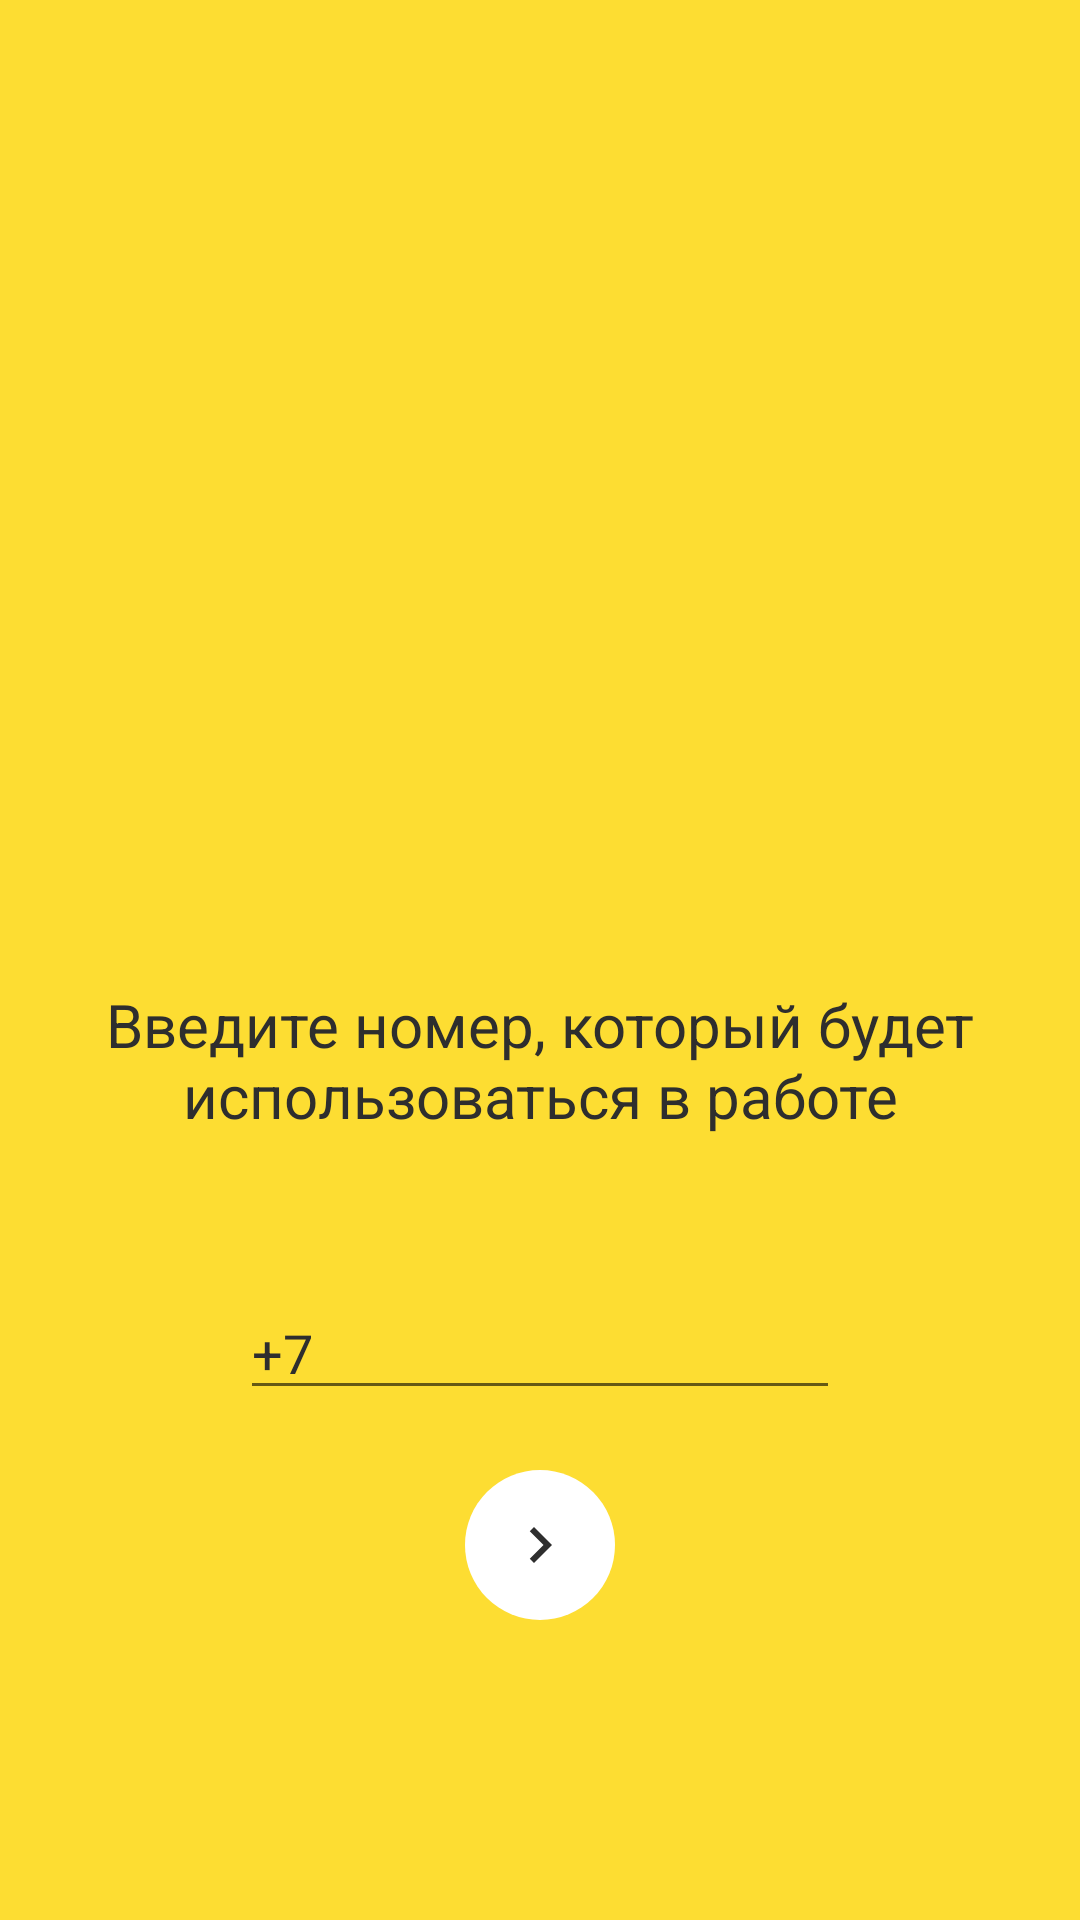

Icon bounding boxes for this 1080x1920 phone screenshot, format {"left": x1, "top": y1, "right": x2, "bottom": y2}:
next: {"left": 465, "top": 1470, "right": 615, "bottom": 1620}
